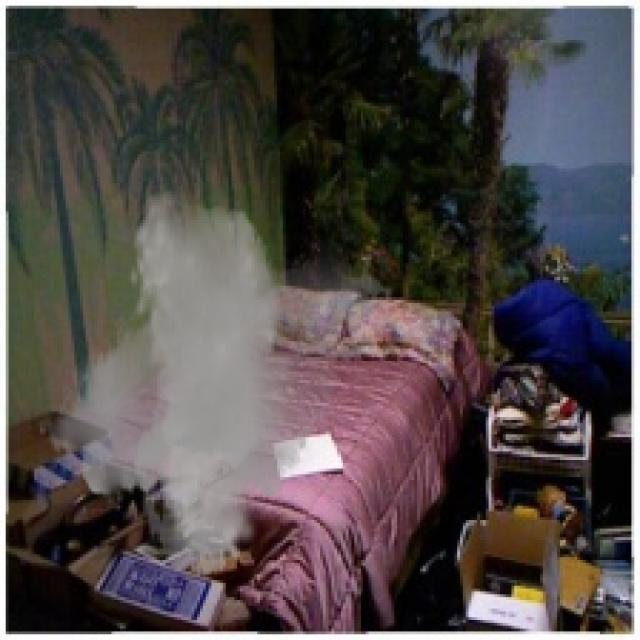Smoke: (37, 188, 394, 578)
